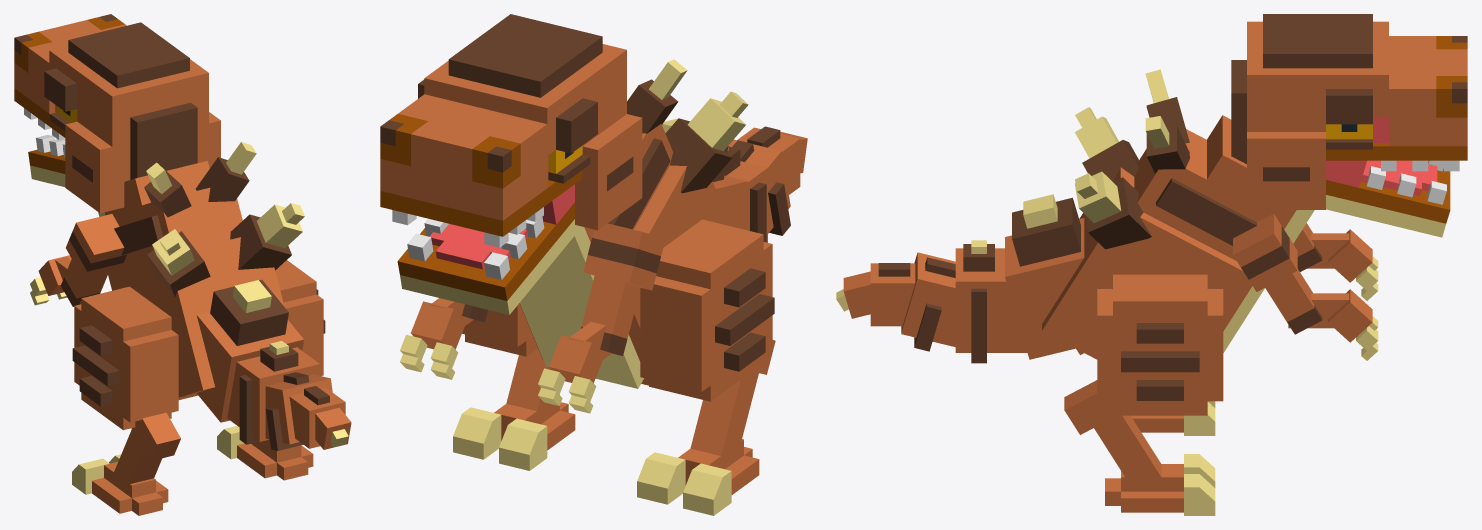
Rendered from he_pingensis.obj.
3 views of the same model, side by side, from view 1: azimuth 30°, elevation 25°; view 2: azimuth 150°, elevation 25°; view 3: azimuth 270°, elevation 25° (orthographic). The views are drawn at different scales.
Visible parts, largest first — view 1: Head, Tail, LowerTorso, LeftUpperLeg, UpperTorso, LeftUpperArm, LeftFoot, RightUpperLeg, LeftLowerLeg, RightFoot, Mouth, LeftLowerArm; view 2: Head, LeftUpperLeg, LowerTorso, Mouth, Tail, LeftUpperArm, UpperTorso, RightFoot, LeftFoot, LeftLowerArm, LeftLowerLeg, RightLowerArm (+2 smaller); view 3: Head, Tail, LowerTorso, RightUpperLeg, UpperTorso, Mouth, RightUpperArm, RightFoot, RightLowerLeg, RightLowerArm, LeftLowerArm, LeftFoot (+1 smaller).
Part boxes in pixels (x1,y1,x2,y2): Head: (14, 14, 220, 213); Tail: (196, 279, 351, 450); LowerTorso: (108, 203, 304, 399); LeftUpperLeg: (72, 286, 178, 430); UpperTorso: (98, 142, 256, 269); LeftUpperArm: (61, 214, 126, 306); LeftFoot: (72, 454, 168, 515); RightUpperLeg: (275, 260, 325, 375); LeftLowerLeg: (113, 412, 180, 483); RightFoot: (217, 426, 313, 480); Mouth: (28, 135, 65, 186); LeftLowerArm: (30, 255, 81, 305); Head: (380, 14, 642, 247); LeftUpperLeg: (640, 219, 774, 401); LowerTorso: (519, 91, 748, 388); Mouth: (397, 184, 581, 314); Tail: (662, 119, 807, 242); LeftUpperArm: (581, 223, 665, 355); UpperTorso: (540, 59, 687, 290); RightFoot: (453, 394, 575, 470); LeftFoot: (637, 439, 759, 515); LeftLowerArm: (538, 322, 611, 413); LeftLowerLeg: (690, 340, 775, 469); RightLowerArm: (400, 298, 473, 379); Head: (1231, 14, 1467, 209); Tail: (836, 194, 1084, 363); LowerTorso: (1042, 107, 1264, 359); RightUpperLeg: (1097, 274, 1223, 415); UpperTorso: (1134, 69, 1314, 260); Mouth: (1326, 160, 1450, 237); RightUpperArm: (1233, 214, 1322, 334); RightFoot: (1105, 454, 1215, 515); RightLowerLeg: (1064, 380, 1163, 482); RightLowerArm: (1288, 289, 1378, 360); LeftLowerArm: (1307, 229, 1378, 300); LeftFoot: (1131, 401, 1215, 435).
Size of the model in its own units: 13.5 by 22.35 by 30.06.
